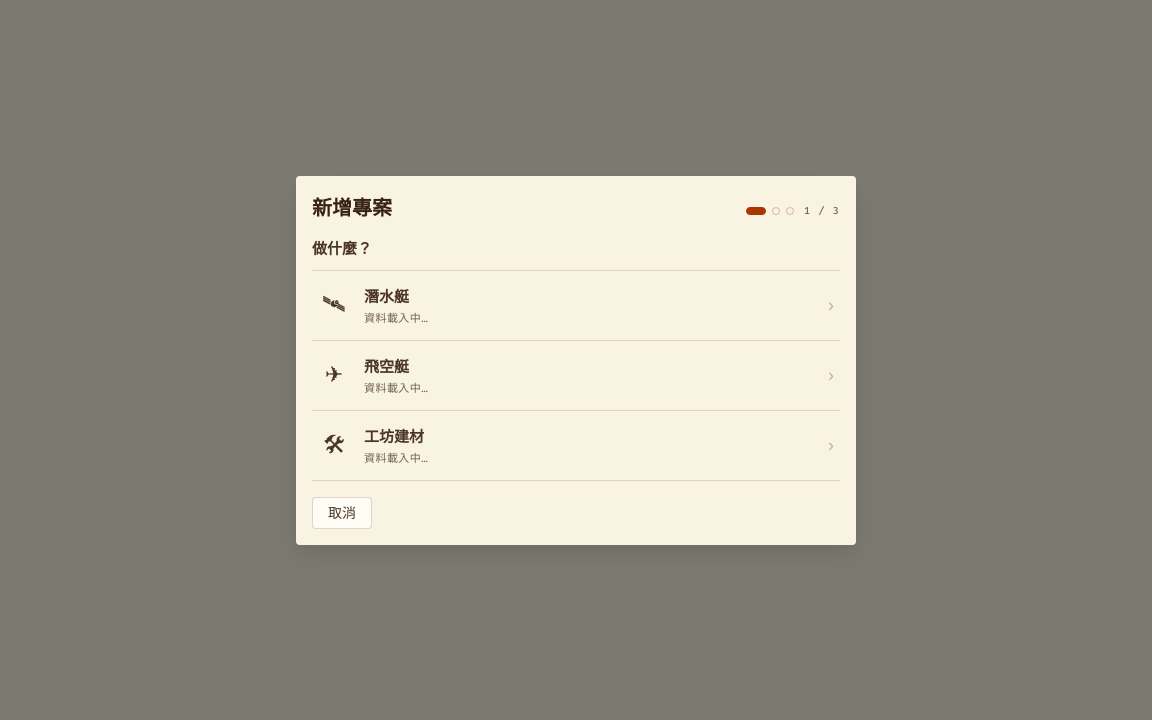
NewProjectDialog › picking a type-row auto-advances to Step 2
Click the button with class "type-row" showing "🛰 潛水艇 資料載入中… ›" at point(387, 296), box x1=312 y1=270 x2=840 y2=340
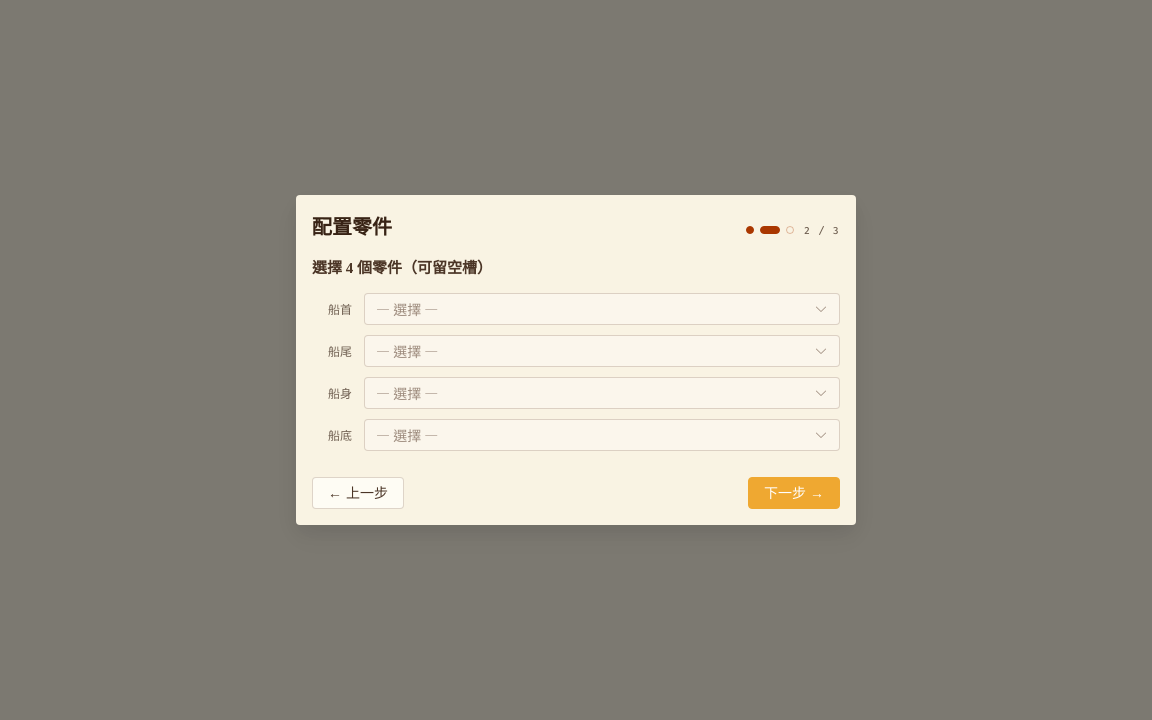
Check: the text "2 / 3" is shown, box x1=804 y1=224 x2=840 y2=236
